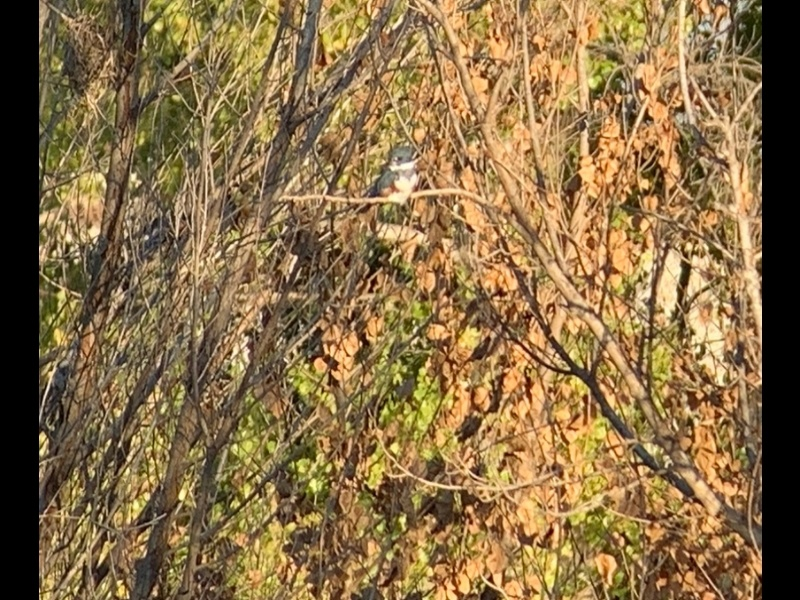kingfisher: (363, 146, 419, 213)
